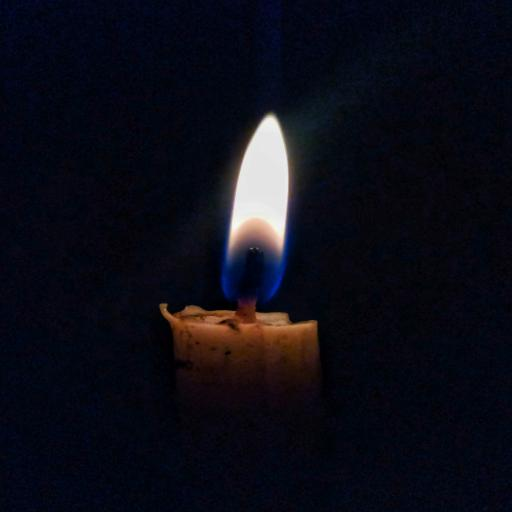candlelight: (156, 113, 320, 420)
